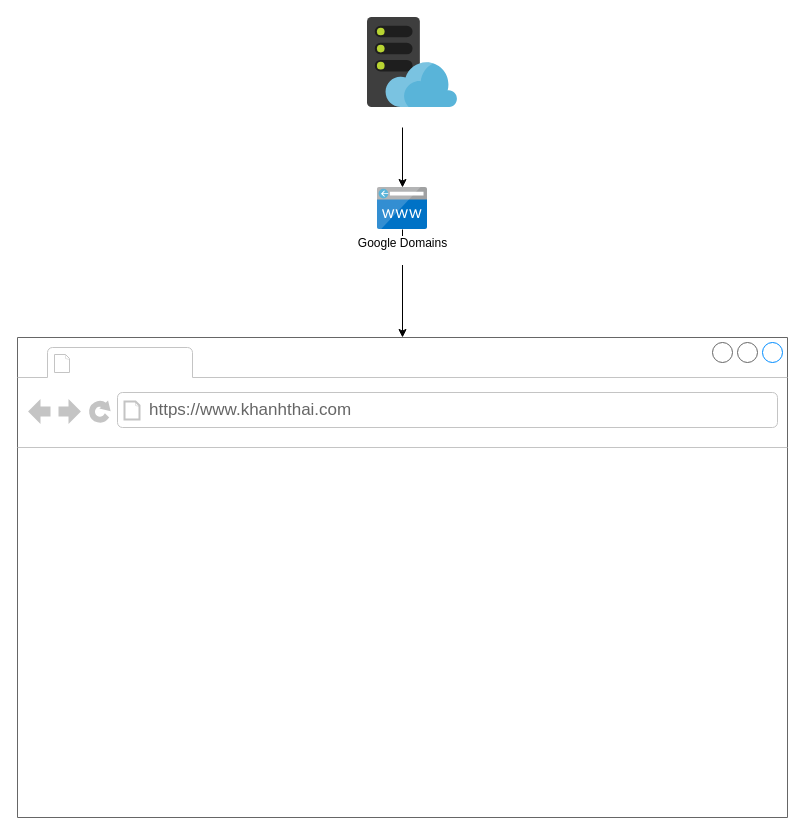
Some shapes in this 805 by 835 pixel diagram are drawn without their labels. The shapes that lost their labels are listed below. From the top down, each one's centre as x and y in pixels, then its label:
At (412,62): "Linode Cloud Hosting".
At (132,362): "Home".
